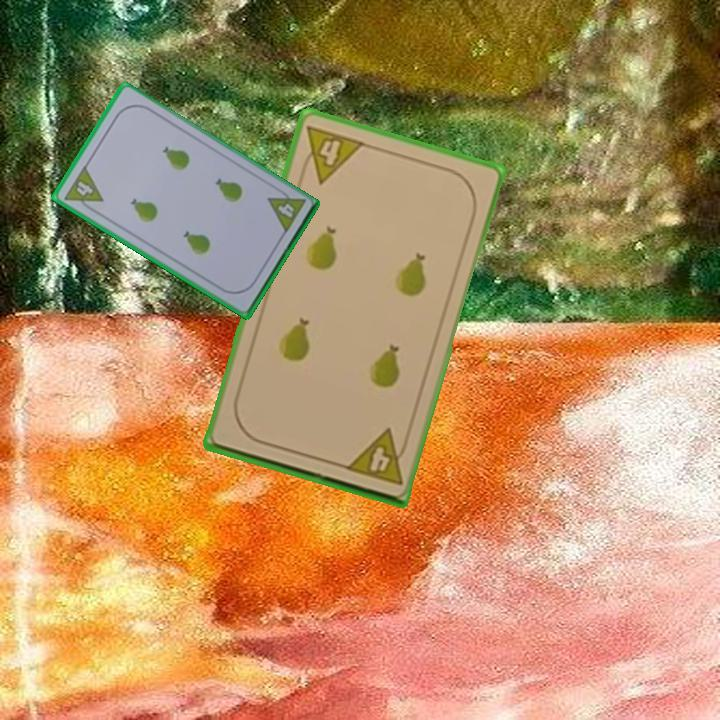4p: (295, 122, 368, 187), (341, 425, 412, 488), (60, 162, 106, 216), (264, 183, 308, 237)
